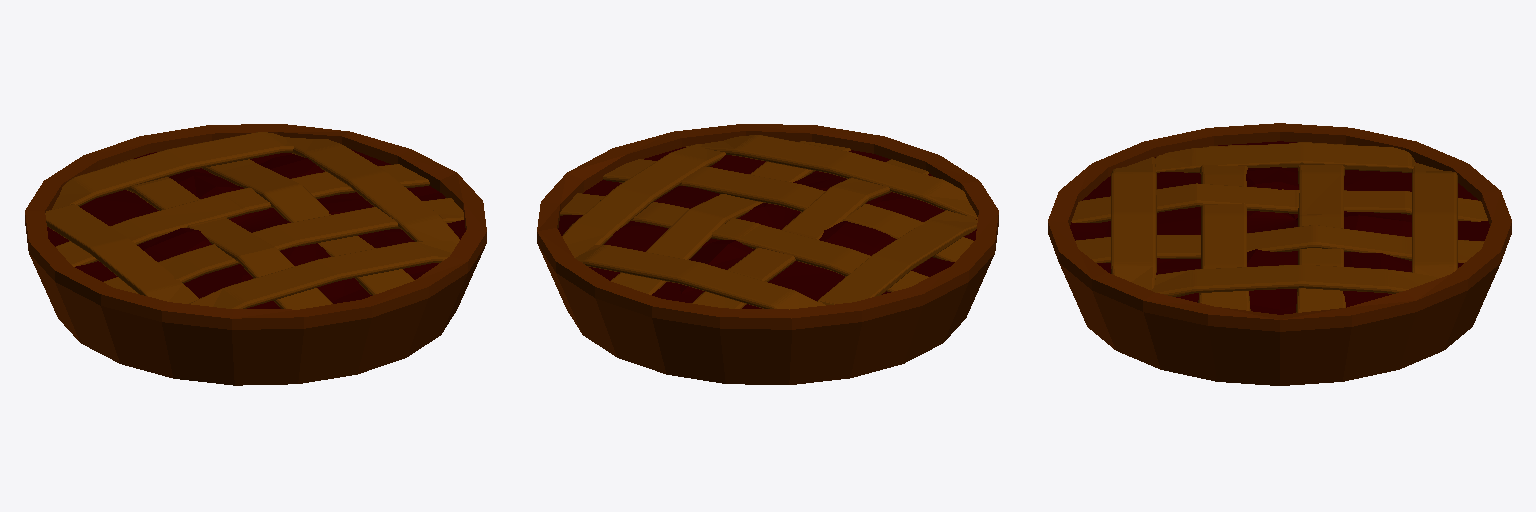
Rendered from Pie03.obj.
The picture shows the model from 3 angles: view 1: azimuth 30°, elevation 25°; view 2: azimuth 150°, elevation 25°; view 3: azimuth 270°, elevation 25°; orthographic projection.
Parts seen in each view (by area): view 1: Pie03_Cube.007; view 2: Pie03_Cube.007; view 3: Pie03_Cube.007.
Part boxes in pixels (x1,y1,x2,y2): Pie03_Cube.007: (25,124,486,385); Pie03_Cube.007: (537,124,998,384); Pie03_Cube.007: (1048,123,1511,385).
Size of the model in its own units: 2.24 by 0.4734 by 2.24.